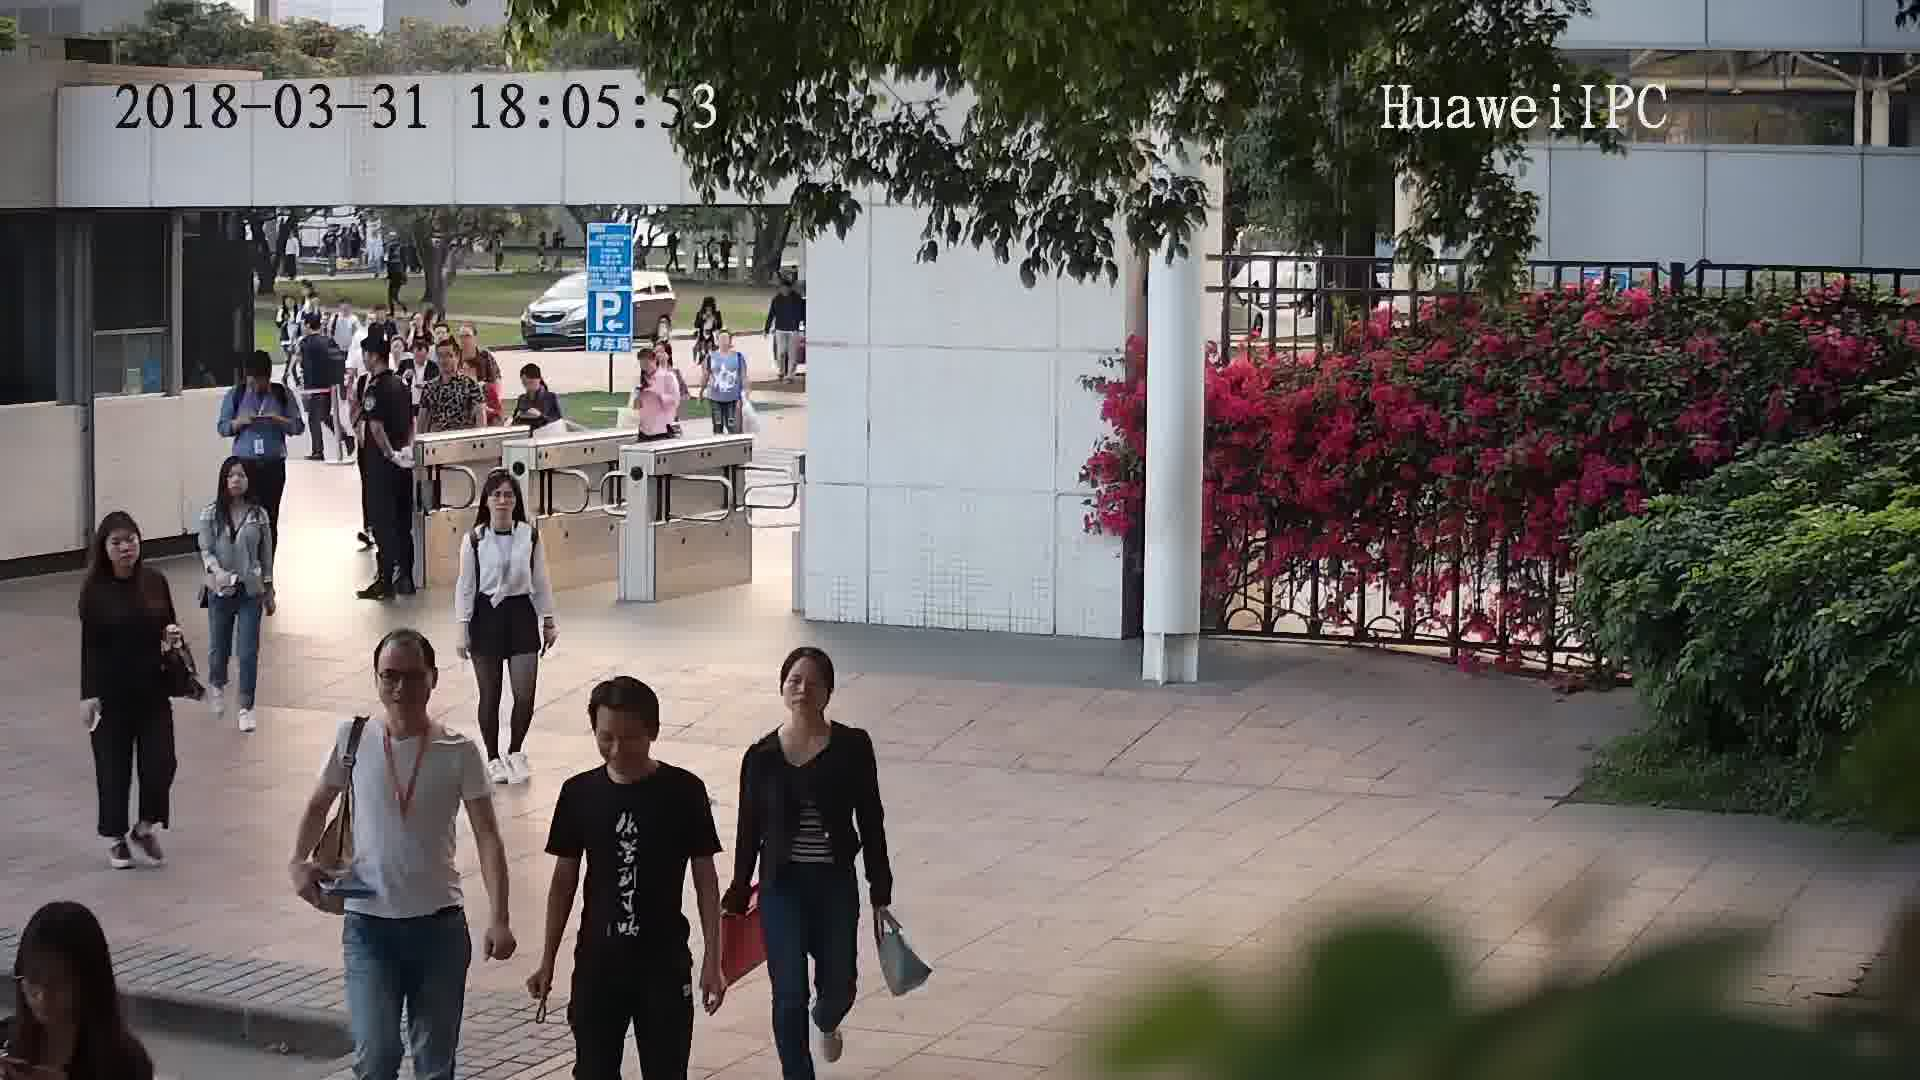face: (10, 942, 93, 1025), (368, 649, 440, 721), (588, 707, 653, 772), (778, 660, 834, 716), (99, 523, 142, 576), (484, 480, 520, 525)
person: (5, 895, 176, 1079), (558, 670, 703, 814), (338, 627, 479, 764), (743, 643, 871, 778), (83, 508, 175, 606), (466, 468, 541, 550), (200, 455, 274, 530), (230, 348, 292, 406), (359, 337, 410, 400), (427, 336, 475, 396), (514, 360, 560, 409), (632, 342, 679, 388), (295, 310, 340, 357), (456, 320, 496, 370), (401, 332, 440, 381), (704, 327, 749, 366), (329, 299, 363, 332), (773, 273, 805, 303), (694, 293, 723, 325), (274, 292, 301, 322)
